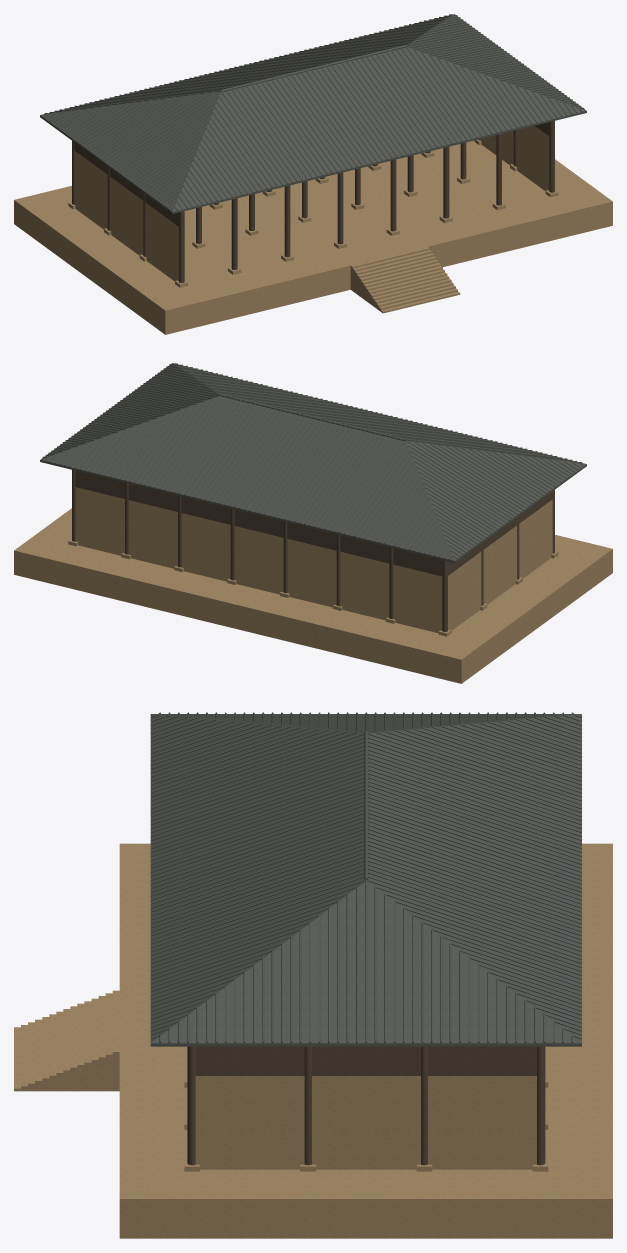
File: deyang-B-LOD0.glb
3 views of the same model, one above another, from view 1: azimuth 30°, elevation 25°; view 2: azimuth 150°, elevation 25°; view 3: azimuth 270°, elevation 25° (orthographic). The views are drawn at different scales.
Visible parts, largest first — view 1: deyang-B-static_earth, deyang-B-static_tile, deyang-B-static_timber; view 2: deyang-B-static_earth, deyang-B-static_tile, deyang-B-static_timber; view 3: deyang-B-static_tile, deyang-B-static_earth, deyang-B-static_timber.
Part boxes in pixels (box(x1,y1,x2,y2)): deyang-B-static_earth: box(14, 126, 612, 334); deyang-B-static_tile: box(40, 14, 586, 213); deyang-B-static_timber: box(72, 121, 554, 282); deyang-B-static_earth: box(14, 487, 612, 683); deyang-B-static_tile: box(40, 363, 586, 562); deyang-B-static_timber: box(72, 470, 554, 631); deyang-B-static_tile: box(150, 712, 582, 1046); deyang-B-static_earth: box(14, 843, 612, 1238); deyang-B-static_timber: box(187, 1046, 545, 1165).
Size of the model in its own units: 40.6 by 13.64 by 28.9.
3 materials, 3 textured.
